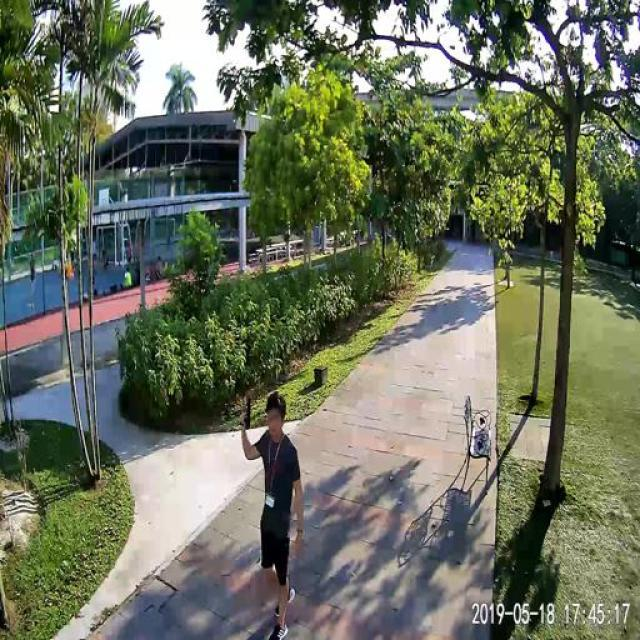Gun: (236, 390, 258, 444)
